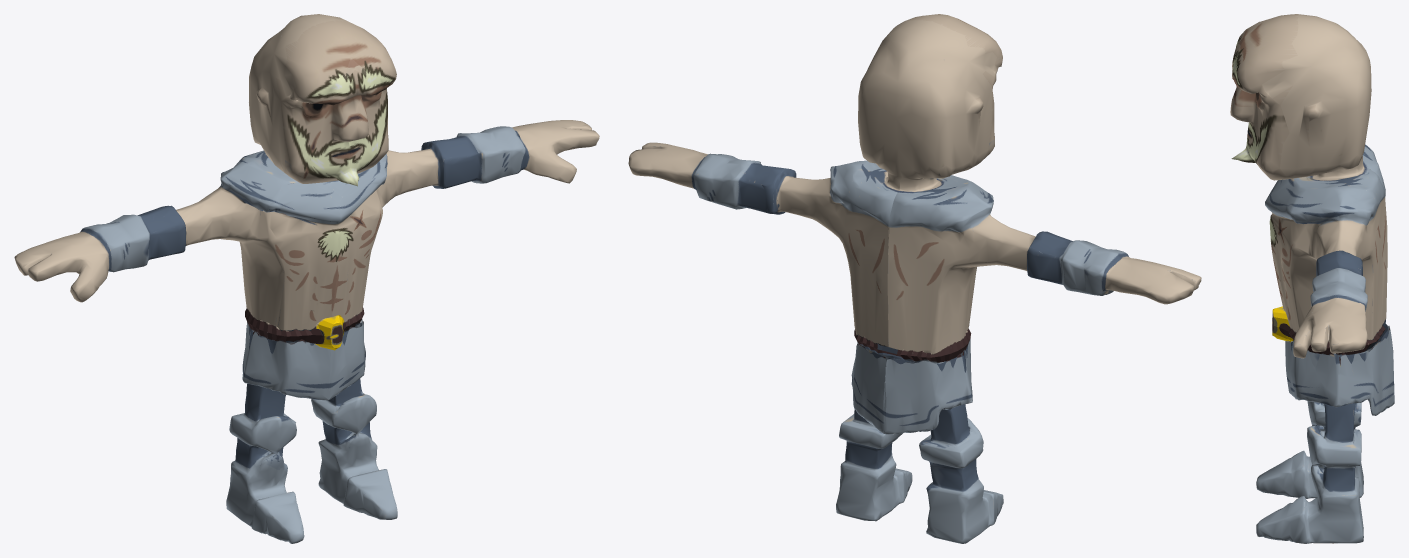
Rendered from SPARTANO2.obj.
3 renders of one model, left to right at view 1: azimuth 30°, elevation 25°; view 2: azimuth 150°, elevation 25°; view 3: azimuth 270°, elevation 25°, orthographic. The views are drawn at different scales.
Parts seen in each view (by area): view 1: Mesh1; view 2: Mesh1; view 3: Mesh1.
Boxes of the visible parts, x1,y1,x2,y2 form: Mesh1: (14,14,599,543); Mesh1: (628,14,1201,543); Mesh1: (1230,14,1394,543).
Size of the model in its own units: 1.91 by 1.59 by 0.4803.
Materials: 1 (1 with a texture image).
